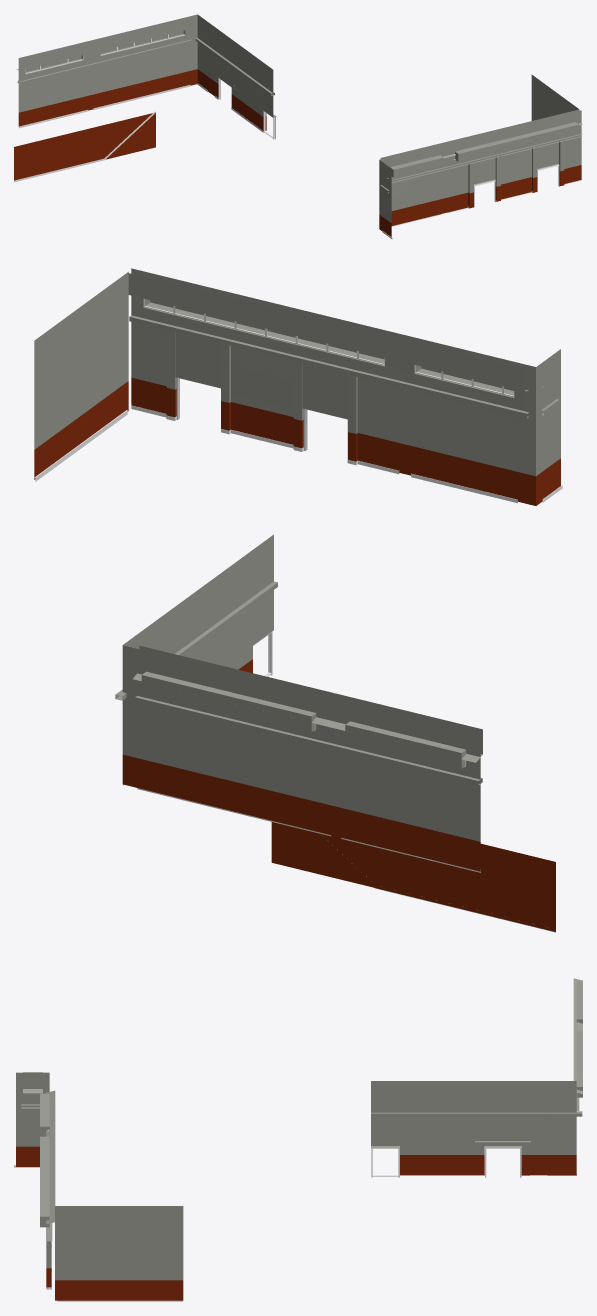
File: SM_H_Building_Tide_Loungehall_01_ATLAS.fbx
The picture shows the model from 3 angles, top to bottom: view 1: azimuth 30°, elevation 25°; view 2: azimuth 150°, elevation 25°; view 3: azimuth 270°, elevation 25°; orthographic projection. The views are drawn at different scales.
Visible parts, largest first — view 1: SM_H_Building_Tide_Loungehall_01_ATLAS; view 2: SM_H_Building_Tide_Loungehall_01_ATLAS; view 3: SM_H_Building_Tide_Loungehall_01_ATLAS.
Boxes of the visible parts, <box> form: SM_H_Building_Tide_Loungehall_01_ATLAS: <box>14,14,582,238</box>; SM_H_Building_Tide_Loungehall_01_ATLAS: <box>34,268,562,932</box>; SM_H_Building_Tide_Loungehall_01_ATLAS: <box>14,978,582,1301</box>.
Bounding box in the file's own units: 4916 × 4578 × 1299.
